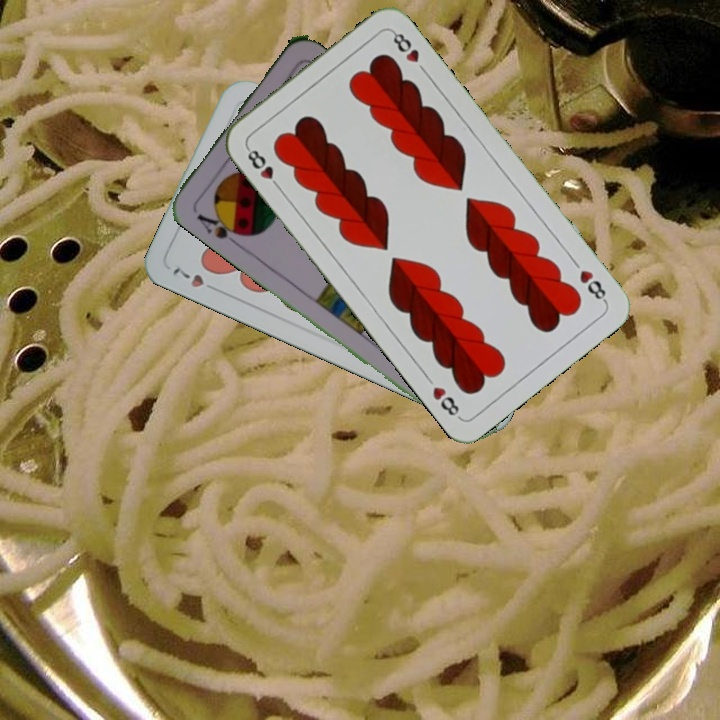H7: (168, 263, 222, 295)
H8: (242, 143, 284, 193), (575, 265, 610, 306)
SA: (192, 206, 246, 248)
